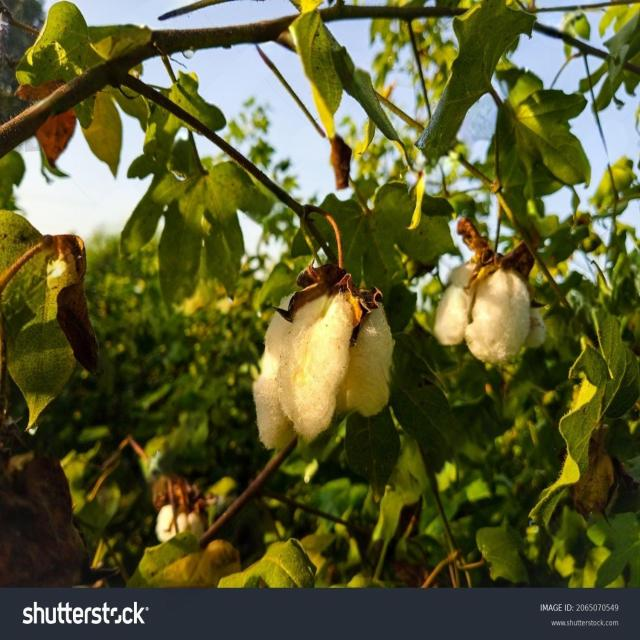Leaf: (239, 232, 417, 464), (419, 237, 549, 379)
